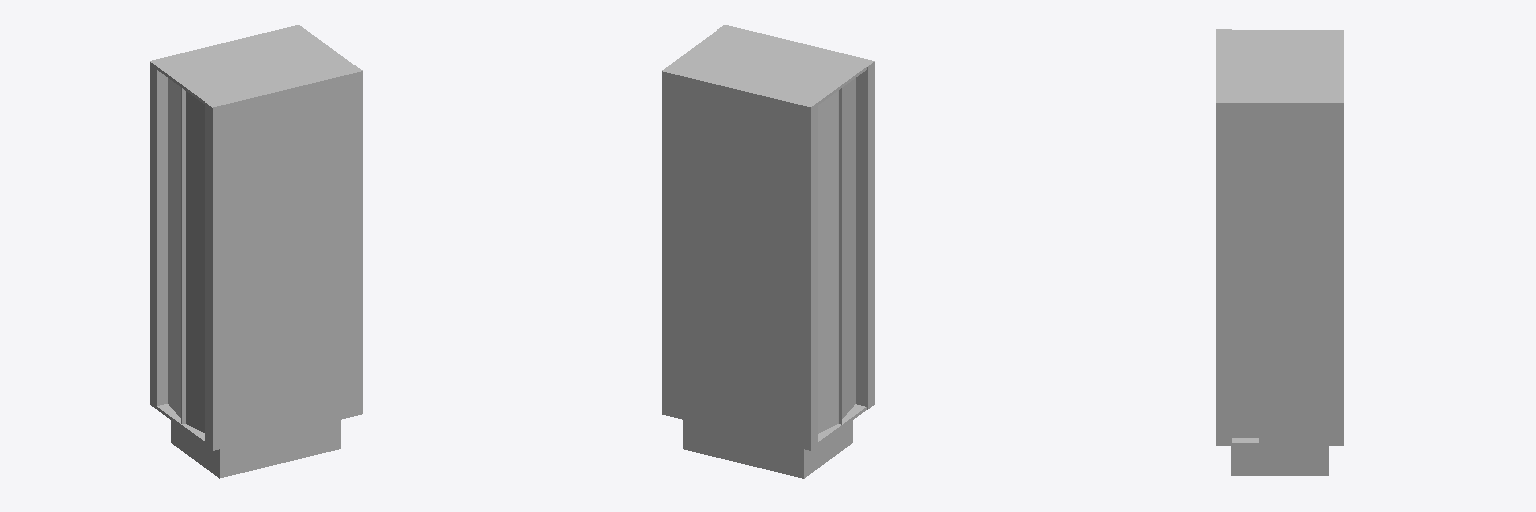
The model's file is lightbox.obj.
The picture shows the model from 3 angles: view 1: azimuth 30°, elevation 25°; view 2: azimuth 150°, elevation 25°; view 3: azimuth 270°, elevation 25°; orthographic projection.
Parts seen in each view (by area): view 1: lightbox; view 2: lightbox; view 3: lightbox.
Boxes of the visible parts, box(x1,y1,x2,y2) form: lightbox: box(150, 25, 362, 478); lightbox: box(662, 25, 874, 478); lightbox: box(1216, 29, 1343, 475).
Size of the model in its own units: 1.55 by 3.73 by 1.13.